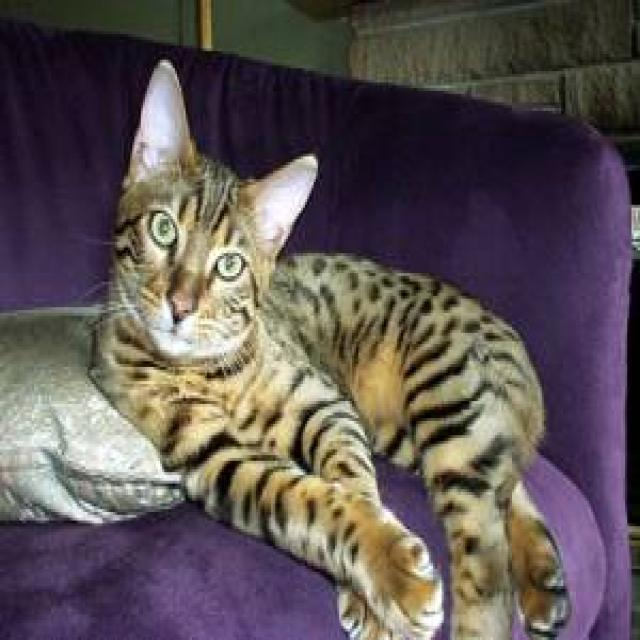Bengal: (111, 54, 316, 353)
